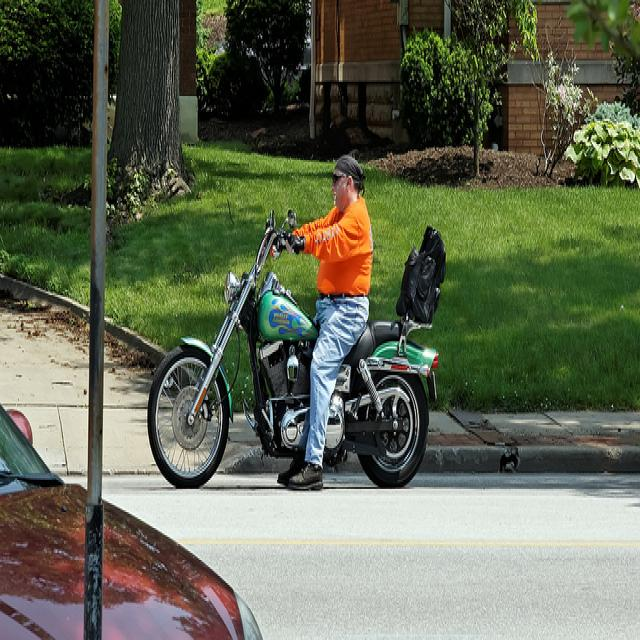motor: (147, 209, 440, 496)
